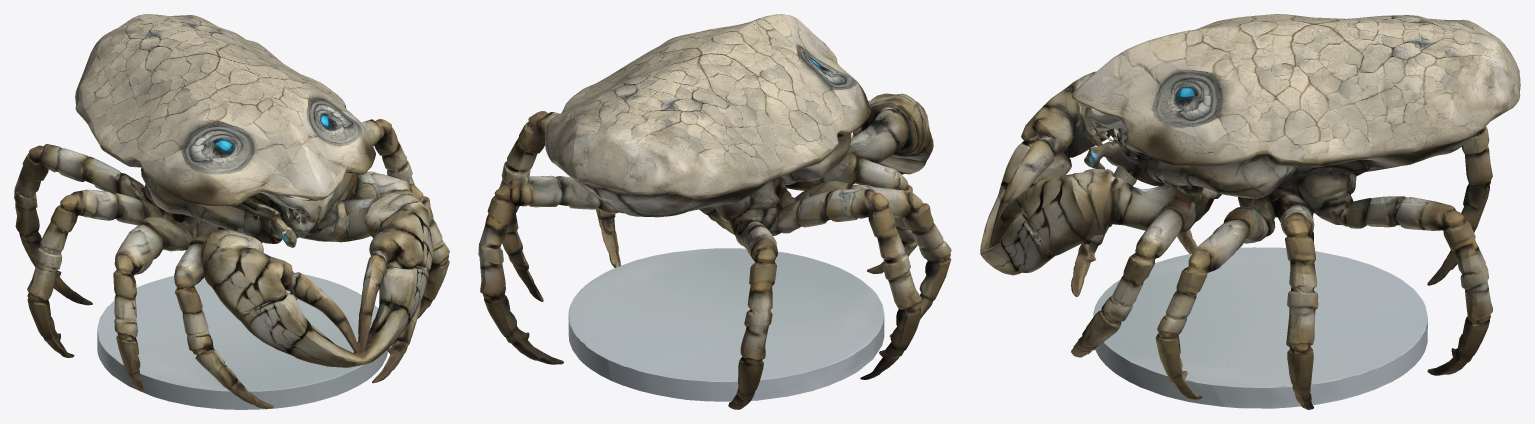
The model's file is fish_stone_crab.glb.
3 views of the same model, side by side, from view 1: azimuth 30°, elevation 25°; view 2: azimuth 150°, elevation 25°; view 3: azimuth 270°, elevation 25° (orthographic). The views are drawn at different scales.
Bounding box in the file's own units: 1.83 × 1.22 × 1.9.
1 material, 1 textured.
